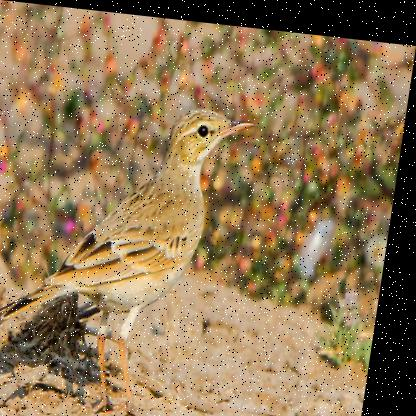Burung: (0, 90, 260, 415)
